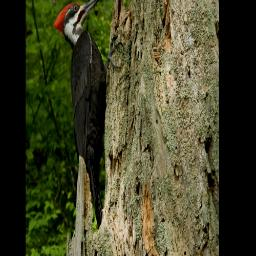Woodpecker: (52, 0, 124, 232)
